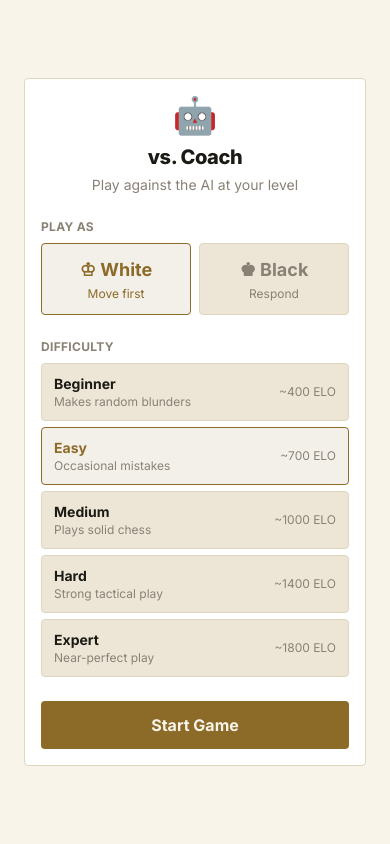
VsCoachPage › does not throw or update state after unmount when the AI-moves-first path is pending
The image size is (390, 844).
Note: Play as Black so the AI (white) moves first via the worker handshake.
Click the text "♚ Black".
click(274, 270)  # box [240,259,308,280]
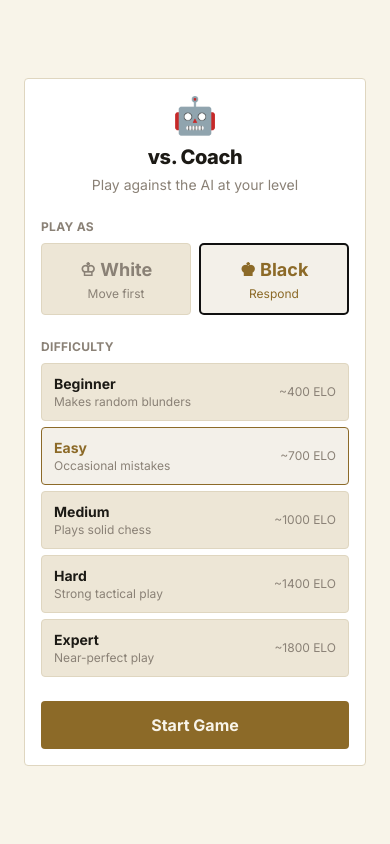
Click the button "Start Game".
click(195, 725)  # box [41,701,349,749]
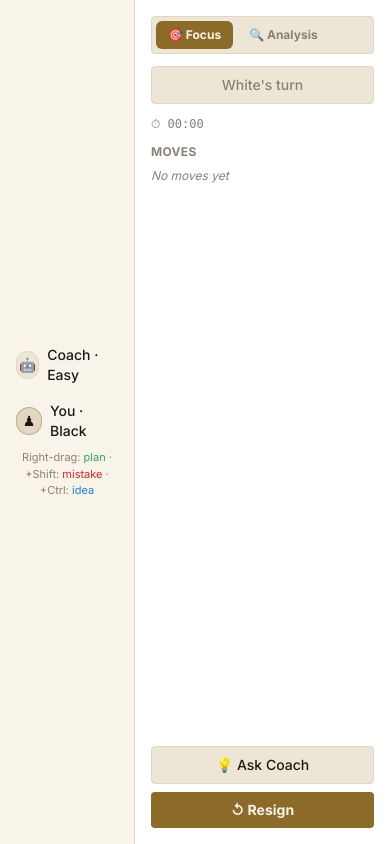
Result: the text "Coach · Easy" is shown at [47,346,98,383]
